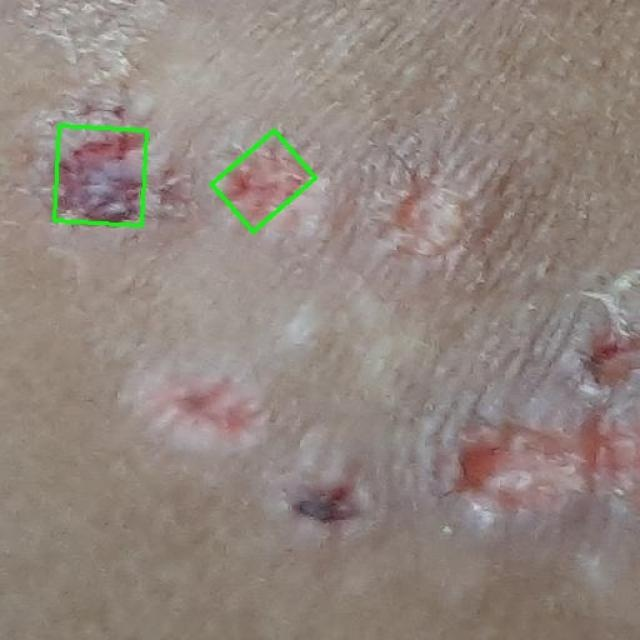Eczema: (212, 131, 316, 232), (54, 126, 147, 226)
